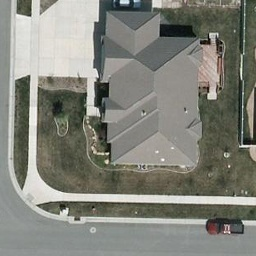car: (203, 214, 244, 237), (111, 1, 143, 12)
